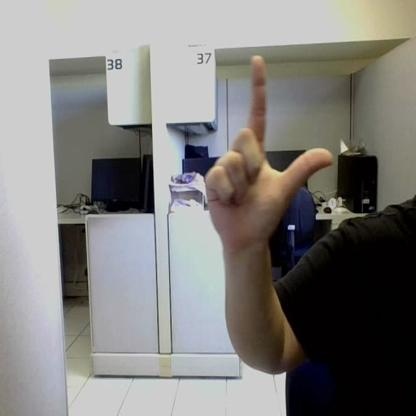L: (207, 55, 333, 245)
